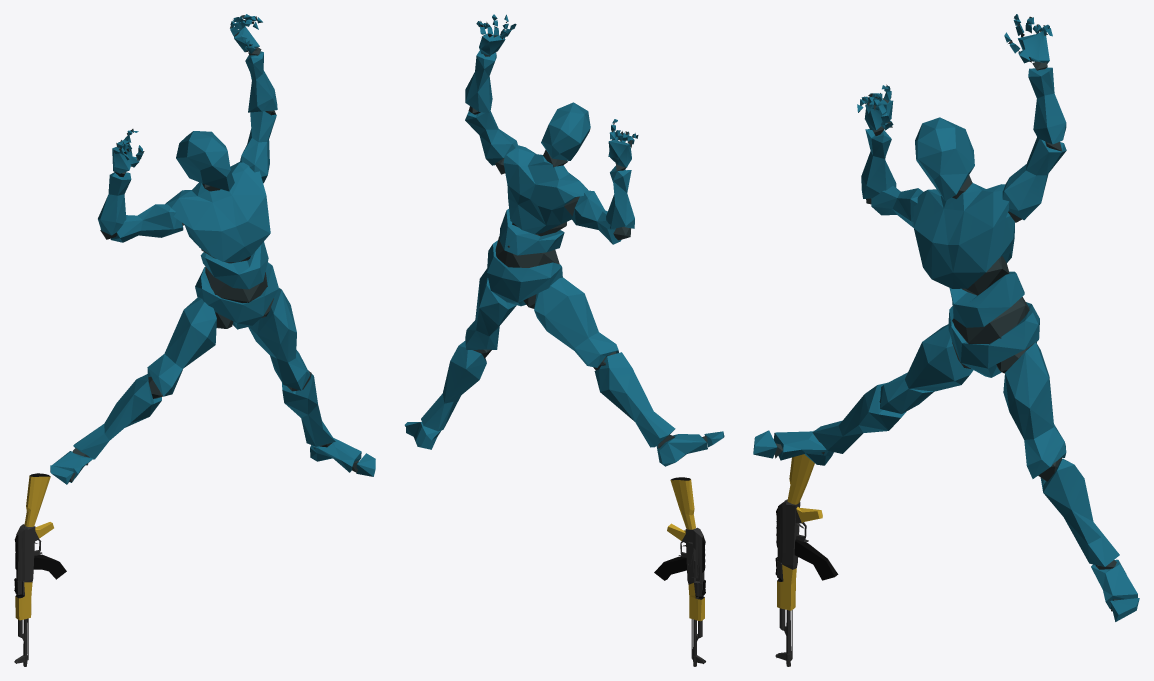
File: EnemyDying_000127.obj
The picture shows the model from 3 angles, left to right: view 1: azimuth 30°, elevation 25°; view 2: azimuth 150°, elevation 25°; view 3: azimuth 330°, elevation 25°; orthographic projection. The views are drawn at different scales.
Parts seen in each view (by area): view 1: Alpha_Surface, AK-47_Cube, Alpha_Joints; view 2: Alpha_Surface, AK-47_Cube, Alpha_Joints; view 3: Alpha_Surface, AK-47_Cube, Alpha_Joints.
Part boxes in pixels (x1=…): Alpha_Surface: x1=50, y1=14, x2=375, y2=484; AK-47_Cube: x1=14, y1=473, x2=66, y2=666; Alpha_Joints: x1=69, y1=15, x2=358, y2=482; Alpha_Surface: x1=404, y1=14, x2=724, y2=466; AK-47_Cube: x1=654, y1=477, x2=705, y2=666; Alpha_Joints: x1=468, y1=18, x2=707, y2=448; Alpha_Surface: x1=753, y1=14, x2=1139, y2=621; AK-47_Cube: x1=775, y1=454, x2=838, y2=666; Alpha_Joints: x1=774, y1=16, x2=1120, y2=611.
Bounding box in the file's own units: 308 × 538 × 70.49.
